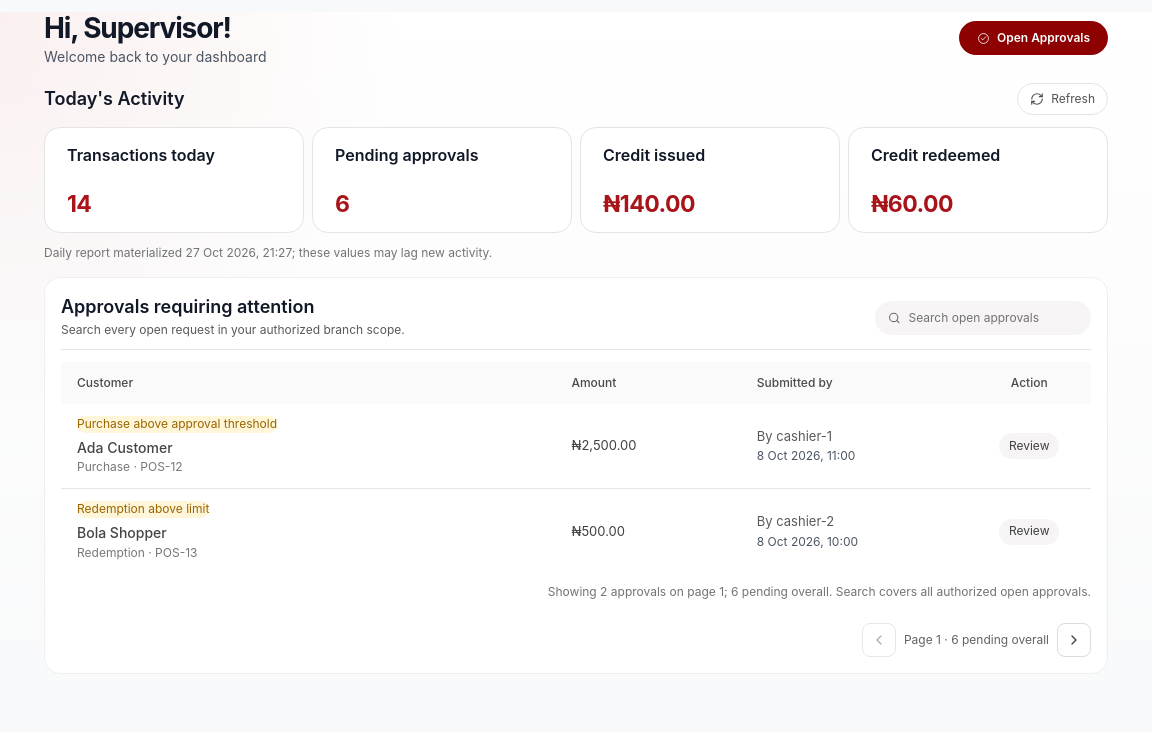
Test case: Supervisor overview live reporting › keeps the search active while paging through matching approvals
Check: the text "Ada Customer" is shown, box [77,439,172,456]
Check: the button named "Previous approvals page" is disabled, box [862,622,896,656]
Type "Bola" into the search field named "Search all open approvals" at (993, 318), box [908,309,1078,327]
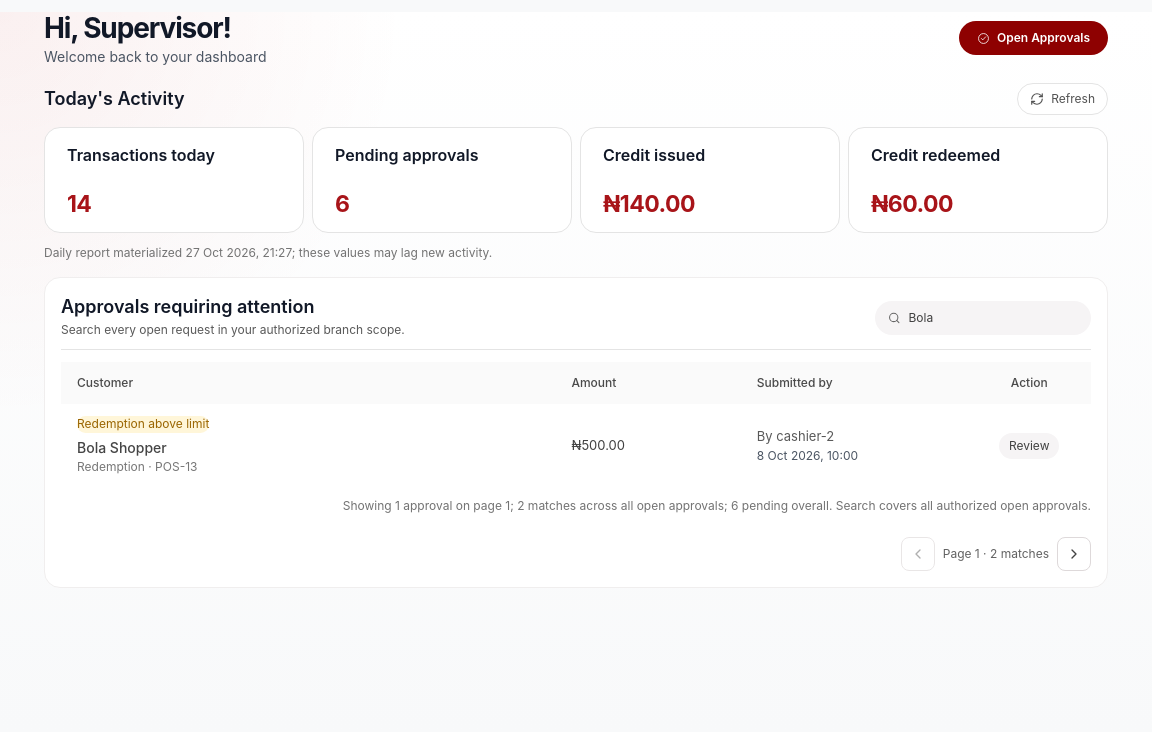
Check: the row "Bola Shopper" is shown, box [61,404,1091,488]
Click the button named "Next approvals page" at (1074, 554), box [1057,537,1091,571]
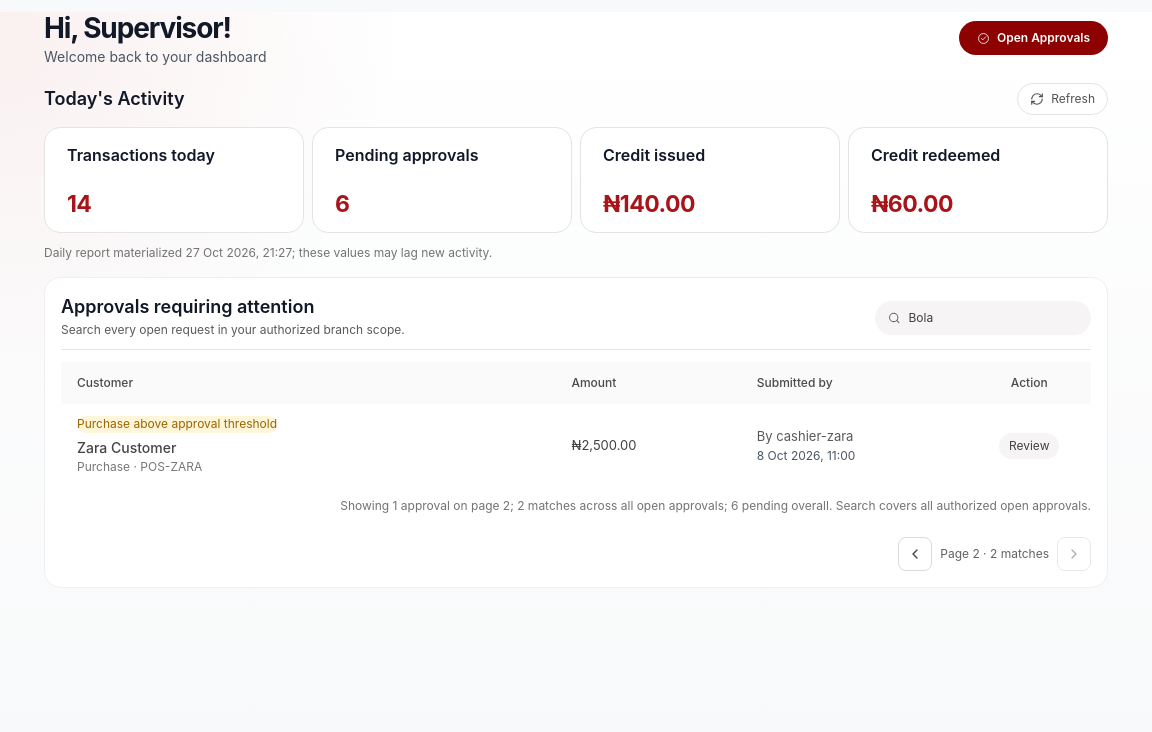
Check: the text "Zara Customer" is shown, box [77,439,176,456]
Check: the text "Page 2 · 2 matches" is shown, box [940,545,1049,563]
Check: the button named "Previous approvals page" is enabled
Click the button named "Previous approvals page" at (915, 554), box [898,537,932,571]
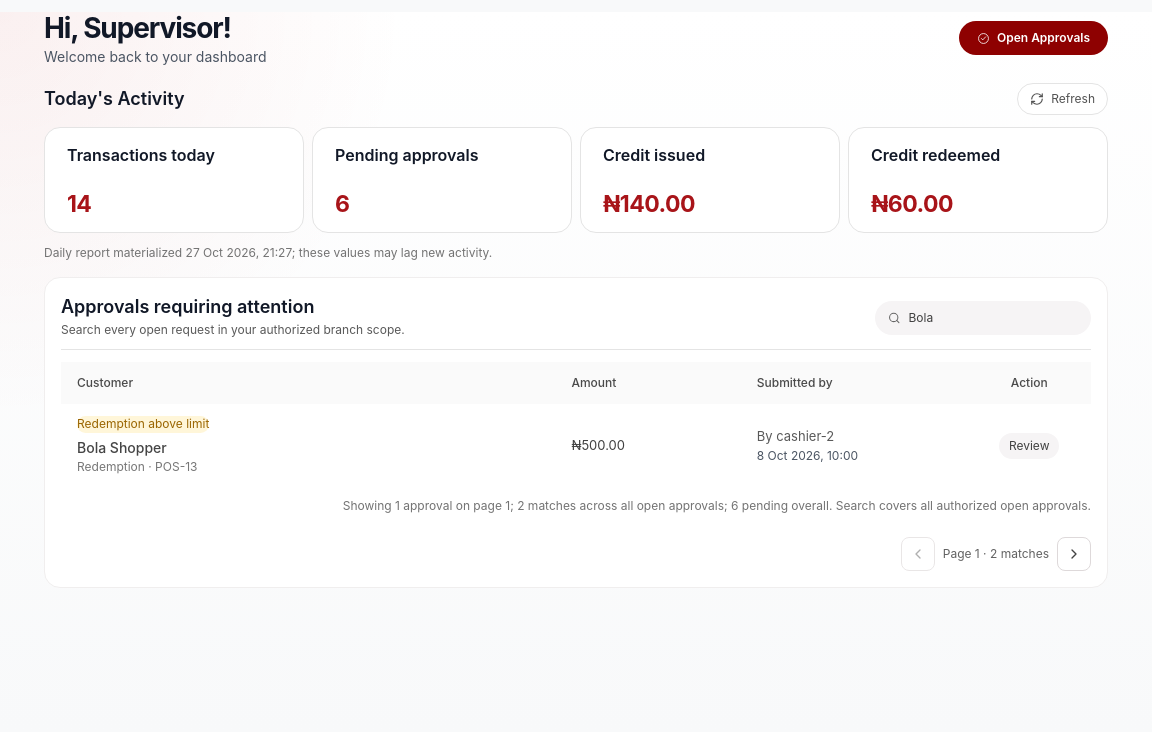
Check: the button named "Next approvals page" is enabled, box [1057,537,1091,571]
Check: the text "Bola Shopper" is shown, box [77,439,167,456]
Check: the button named "Previous approvals page" is disabled, box [901,537,935,571]
